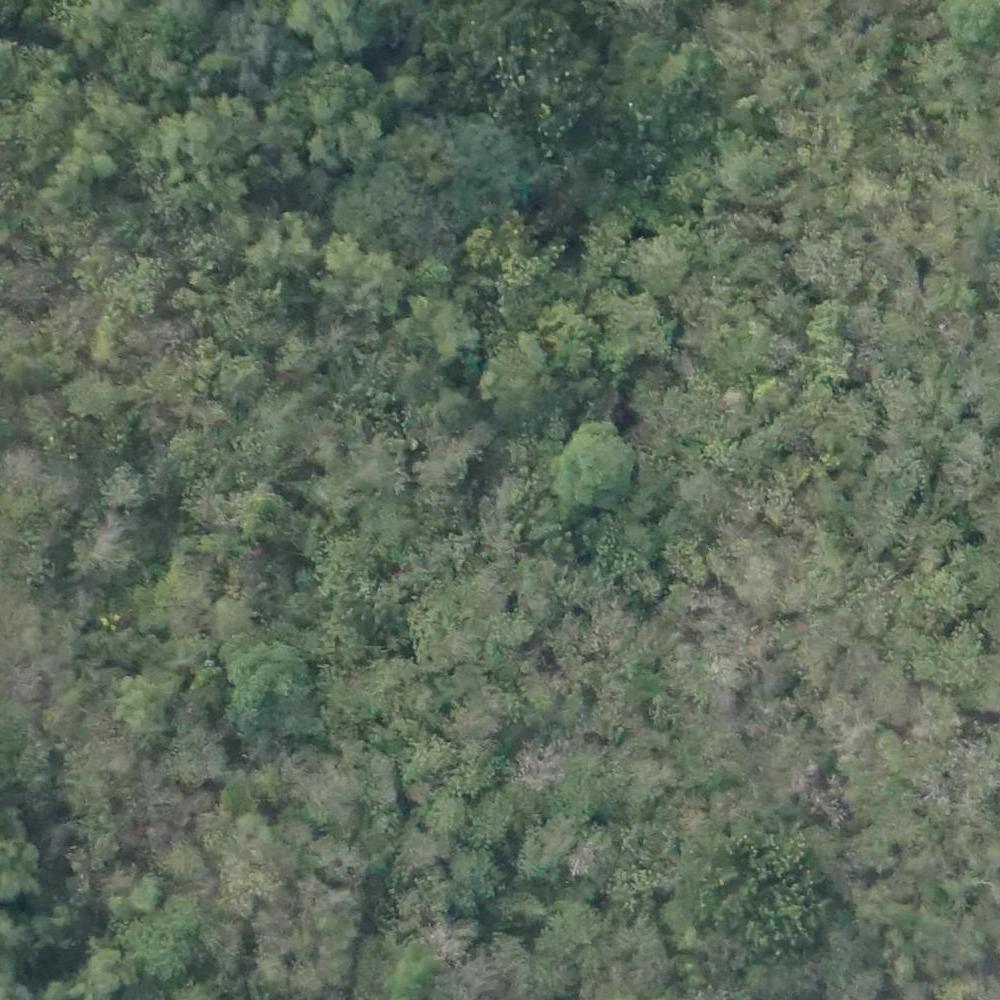tree: (700, 829, 823, 953), (109, 904, 199, 985), (555, 423, 636, 509), (231, 648, 309, 727), (527, 300, 602, 375), (247, 203, 318, 279), (299, 1, 382, 58), (320, 530, 385, 602), (521, 813, 585, 881), (69, 518, 139, 578), (608, 294, 667, 357), (452, 841, 508, 906), (631, 238, 692, 297), (476, 791, 537, 850), (62, 367, 120, 428), (722, 141, 785, 197), (937, 1, 1000, 54), (237, 484, 293, 541), (112, 676, 165, 736), (100, 459, 153, 518), (214, 351, 269, 406), (383, 942, 433, 1000), (422, 791, 473, 841), (320, 227, 366, 275), (125, 867, 168, 906), (770, 287, 810, 326), (311, 91, 349, 122), (390, 78, 426, 110)
